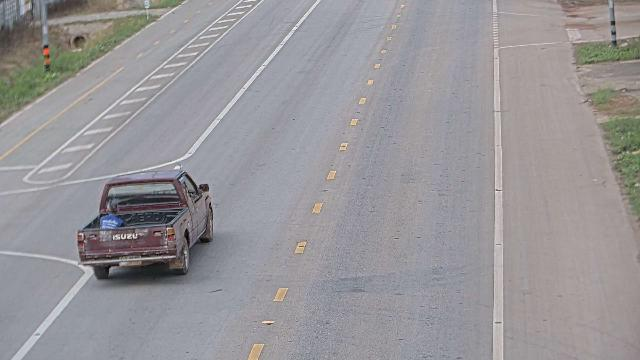pickup-truck: (76, 164, 214, 280)
